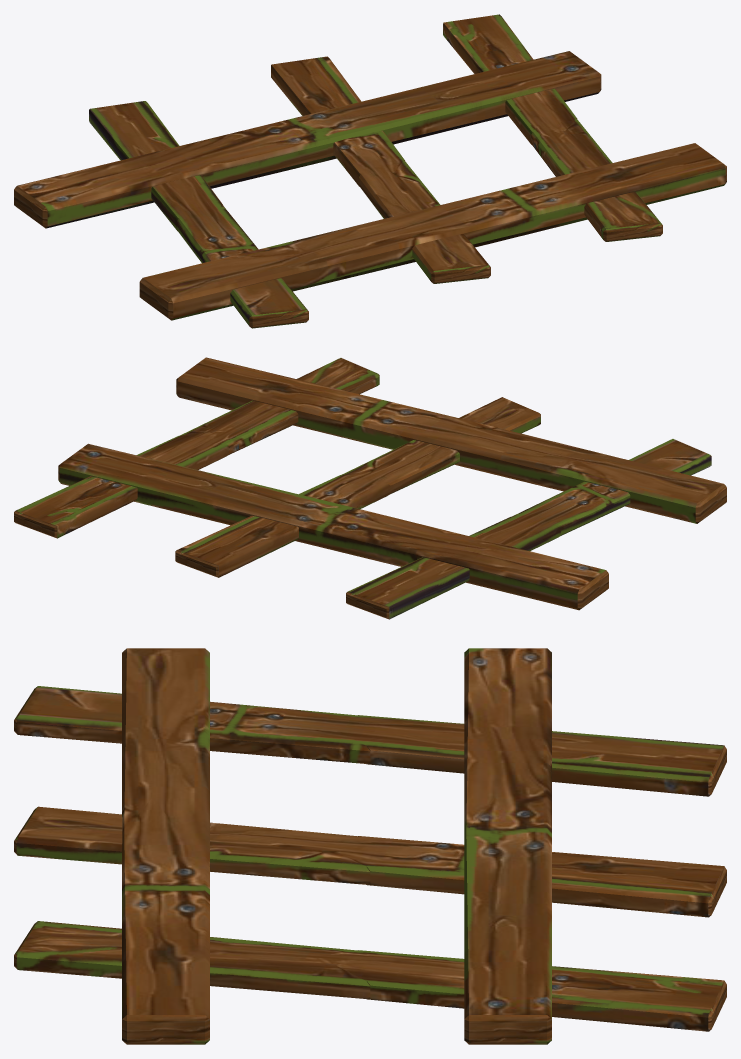
Rendered from Plank.fbx.
The picture shows the model from 3 angles, top to bottom: view 1: azimuth 30°, elevation 25°; view 2: azimuth 150°, elevation 25°; view 3: azimuth 270°, elevation 25°; orthographic projection. The views are drawn at different scales.
Parts seen in each view (by area): view 1: Plank_Side2, Plank_Side3, Plank_Side4, Plank_Side1, Plank_middle1, Plank_middle6, Plank_middle3, Plank_middle2, Plank_middle4, Plank_middle5; view 2: Plank_Side2, Plank_Side4, Plank_Side1, Plank_Side3, Plank_middle6, Plank_middle2, Plank_middle4, Plank_middle1, Plank_middle5, Plank_middle3; view 3: Plank_Side2, Plank_Side4, Plank_Side3, Plank_Side1, Plank_middle6, Plank_middle4, Plank_middle2, Plank_middle3, Plank_middle5, Plank_middle1.
Part boxes in pixels (<box>): Plank_Side2: <box>387,143,726,247</box>; Plank_Side3: <box>14,125,328,228</box>; Plank_Side4: <box>261,51,601,161</box>; Plank_Side1: <box>139,217,453,320</box>; Plank_middle1: <box>177,205,308,328</box>; Plank_middle6: <box>443,14,577,144</box>; Plank_middle3: <box>359,161,490,283</box>; Plank_middle2: <box>89,101,223,230</box>; Plank_middle4: <box>271,56,404,186</box>; Plank_middle5: <box>531,119,662,241</box>; Plank_Side2: <box>176,357,504,467</box>; Plank_Side4: <box>58,443,386,553</box>; Plank_Side1: <box>454,420,726,523</box>; Plank_Side3: <box>336,506,608,610</box>; Plank_middle6: <box>14,432,228,538</box>; Plank_middle2: <box>346,513,560,619</box>; Plank_middle4: <box>175,471,390,577</box>; Plank_middle1: <box>512,439,711,535</box>; Plank_middle5: <box>180,358,379,454</box>; Plank_middle3: <box>341,397,540,493</box>; Plank_Side2: <box>122,797,209,1044</box>; Plank_Side4: <box>464,797,551,1044</box>; Plank_Side3: <box>464,648,551,839</box>; Plank_Side1: <box>122,648,209,838</box>; Plank_middle6: <box>336,950,726,1031</box>; Plank_middle4: <box>336,836,726,917</box>; Plank_middle2: <box>336,715,726,796</box>; Plank_middle3: <box>14,806,378,884</box>; Plank_middle5: <box>14,921,378,998</box>; Plank_middle1: <box>14,686,378,763</box>.
Size of the model in its own units: 400 by 15 by 325.
